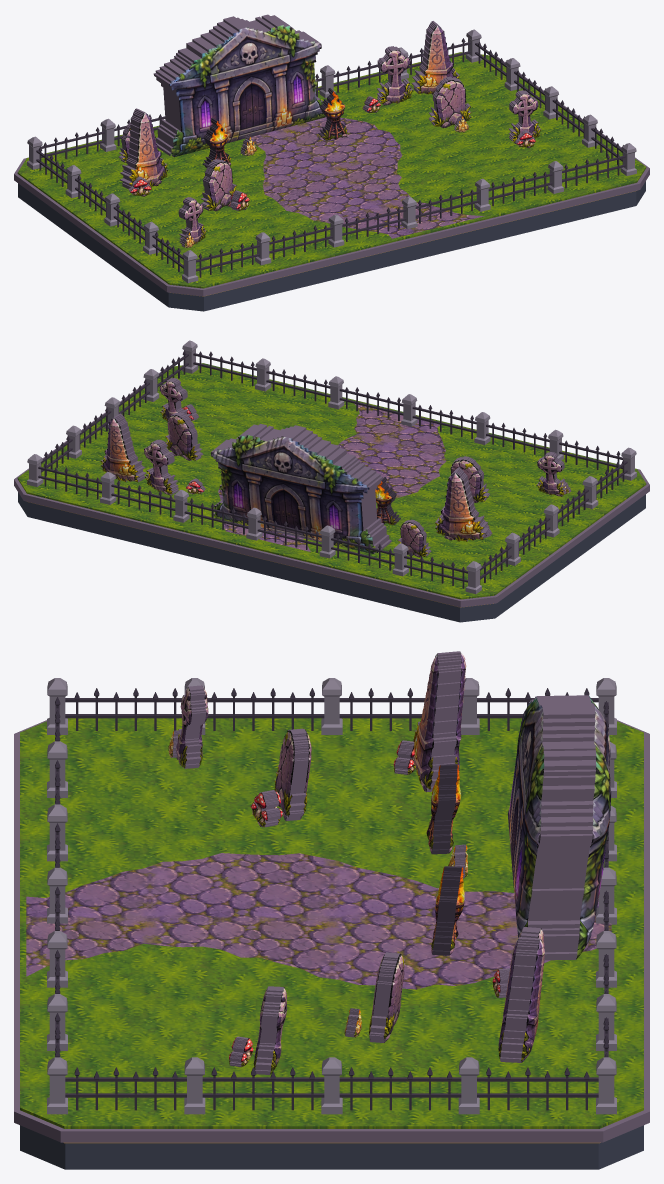
The model's file is vesper_court.glb.
3 views of the same model, one above another, from view 1: azimuth 30°, elevation 25°; view 2: azimuth 150°, elevation 25°; view 3: azimuth 270°, elevation 25° (orthographic). The views are drawn at different scales.
Parts seen in each view (by area): view 1: Moss court, wide_skull_mausoleum, Pilgrim walk, Floating foundation, Wrought iron perimeter, Lichen stone perimeter, Upper cornice, obelisk, obelisk.001, grave_cracked.001, grave_celtic, grave_cracked (+4 smaller); view 2: Moss court, wide_skull_mausoleum, Wrought iron perimeter, Floating foundation, Lichen stone perimeter, Pilgrim walk, Upper cornice, obelisk, obelisk.001, grave_cracked.001, grave_celtic, grave_celtic.001 (+4 smaller); view 3: Moss court, Pilgrim walk, wide_skull_mausoleum, Lichen stone perimeter, Floating foundation, Wrought iron perimeter, Upper cornice, obelisk, obelisk.001, grave_cracked, grave_cracked.001, brazier (+5 smaller).
Part boxes in pixels (x1,y1,x2,y2): Moss court: (17,52,646,288); wide_skull_mausoleum: (153,14,326,157); Pilgrim walk: (250,117,484,238); Floating foundation: (18,181,645,311); Wrought iron perimeter: (36,38,625,277); Lichen stone perimeter: (27,29,636,283); Upper cornice: (14,52,649,296); obelisk: (120,108,167,188); obelisk.001: (411,21,459,94); grave_cracked.001: (428,76,471,128); grave_celtic: (377,46,413,105); grave_cracked: (201,159,236,211); Moss court: (17,363,646,599); wide_skull_mausoleum: (211,424,391,553); Wrought iron perimeter: (38,350,627,588); Floating foundation: (18,492,645,622); Lichen stone perimeter: (27,340,636,594); Pilgrim walk: (218,403,446,551); Upper cornice: (14,363,649,607); obelisk: (435,467,489,541); obelisk.001: (100,413,146,482); grave_cracked.001: (165,412,203,460); grave_celtic: (144,439,178,495); grave_celtic.001: (536,452,566,496); Moss court: (20,718,643,1128); Pilgrim walk: (26,853,611,989); wide_skull_mausoleum: (507,695,611,960); Lichen stone perimeter: (47,678,616,1114); Floating foundation: (20,1125,643,1169); Wrought iron perimeter: (55,688,608,1110); Upper cornice: (14,720,649,1142); obelisk: (413,651,466,792); obelisk.001: (498,937,544,1062); grave_cracked: (274,728,311,820); grave_cracked.001: (369,952,404,1042); brazier: (426,764,460,854).
Bounding box in the file's own units: 15.18 × 3.88 × 9.78.
14 materials, 9 textured.
